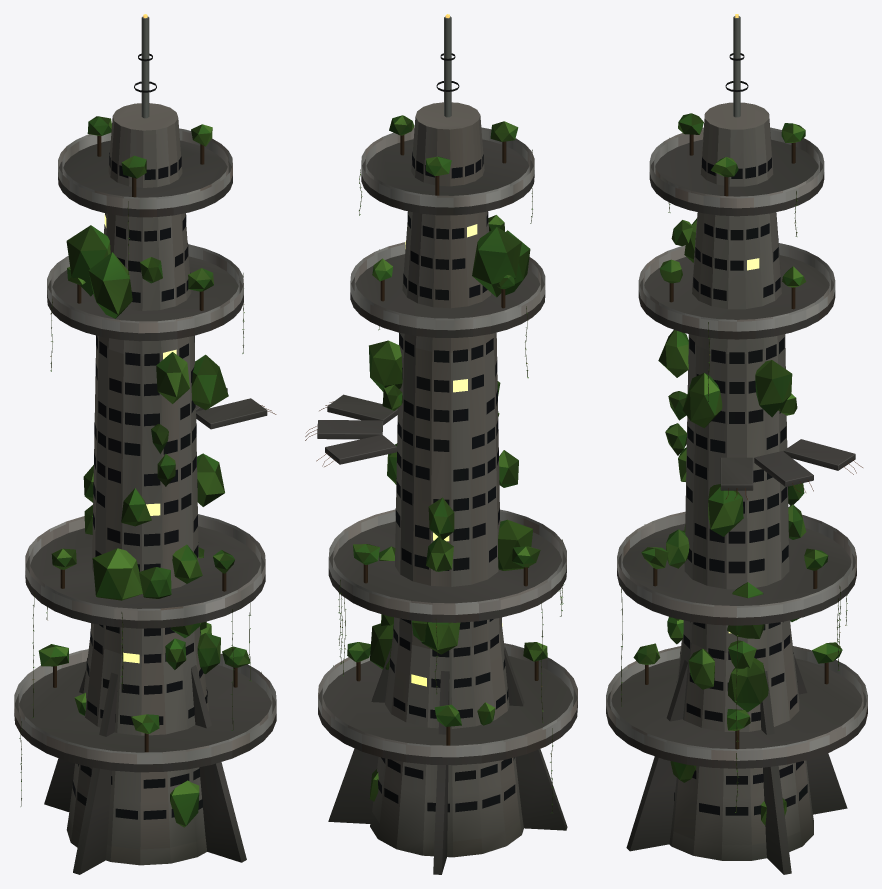
Rendered from arcology_spire.glb.
The picture shows the model from 3 angles, left to right: view 1: azimuth 30°, elevation 25°; view 2: azimuth 150°, elevation 25°; view 3: azimuth 270°, elevation 25°; orthographic projection.
Visible parts, largest first — view 1: Mesh; view 2: Mesh; view 3: Mesh.
Boxes of the visible parts, x1,y1,x2,y2 form: Mesh: [14, 14, 276, 874]; Mesh: [305, 14, 577, 874]; Mesh: [606, 14, 867, 874].
Size of the model in its own units: 25.49 by 82.25 by 24.
